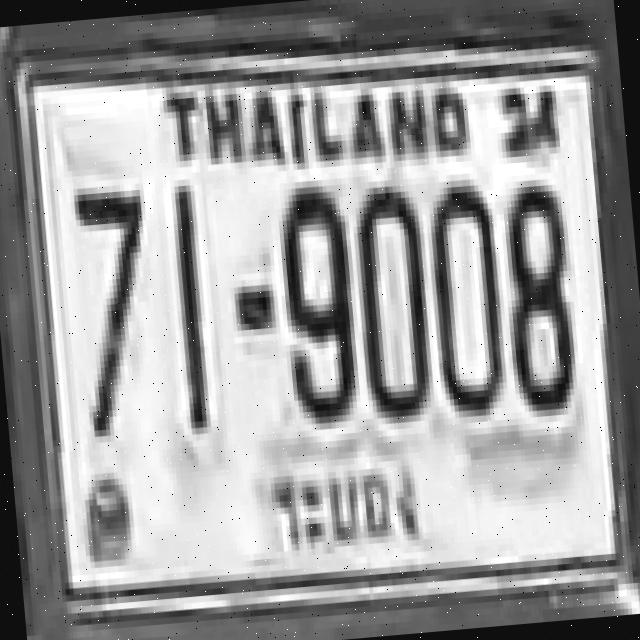0: (349, 178, 432, 419), (423, 178, 505, 412)
1: (166, 182, 211, 432)
7: (69, 184, 156, 430)
8: (495, 178, 576, 406)
9: (272, 182, 358, 422)
Rayong: (258, 453, 430, 553)
